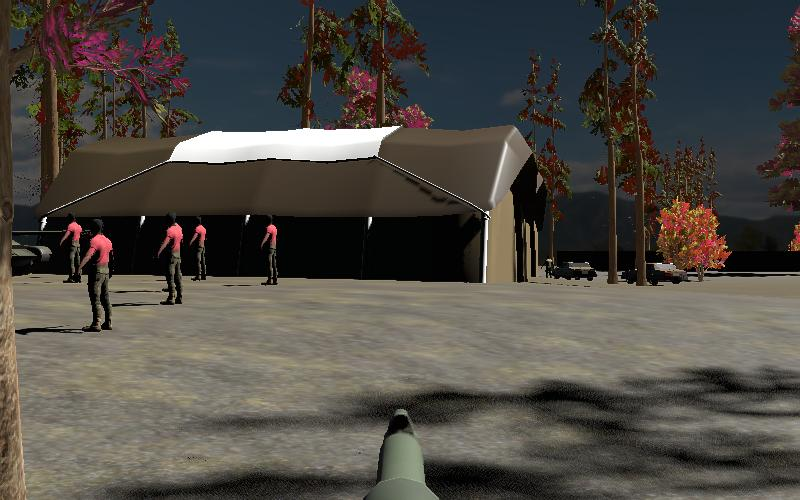Human: (76, 218, 118, 333), (152, 212, 186, 306), (154, 212, 187, 307), (57, 211, 84, 284), (258, 213, 282, 287), (189, 214, 211, 283), (541, 256, 556, 279)
Tank: (0, 221, 113, 280)
car: (621, 260, 687, 287), (559, 261, 598, 282)
